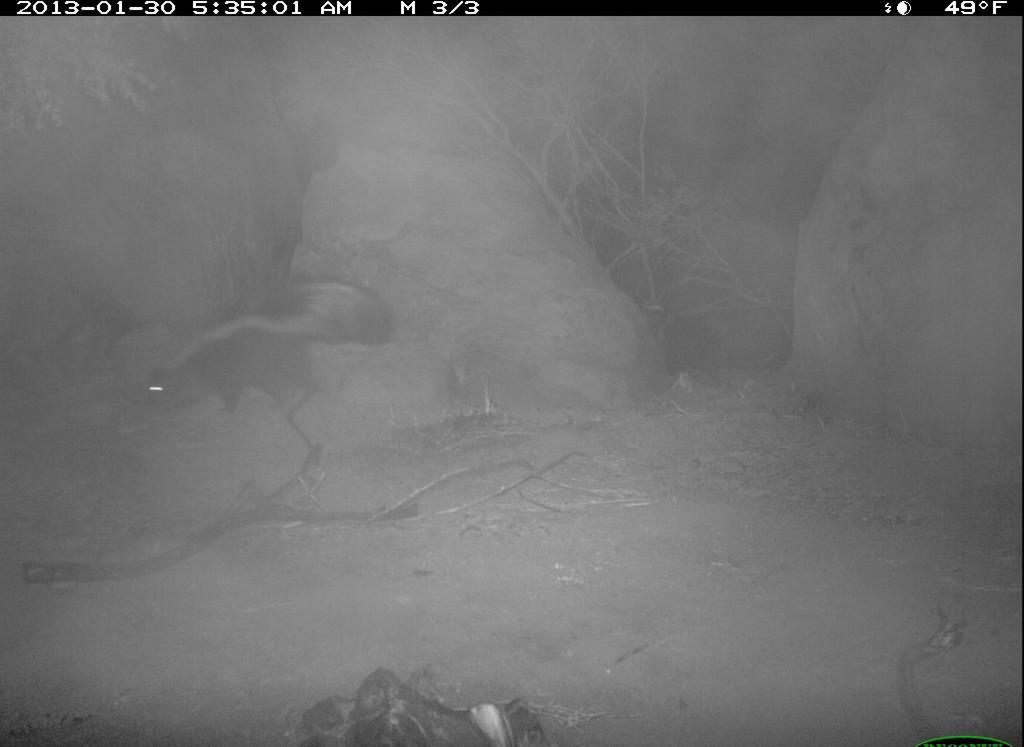skunk: (118, 263, 413, 434)
